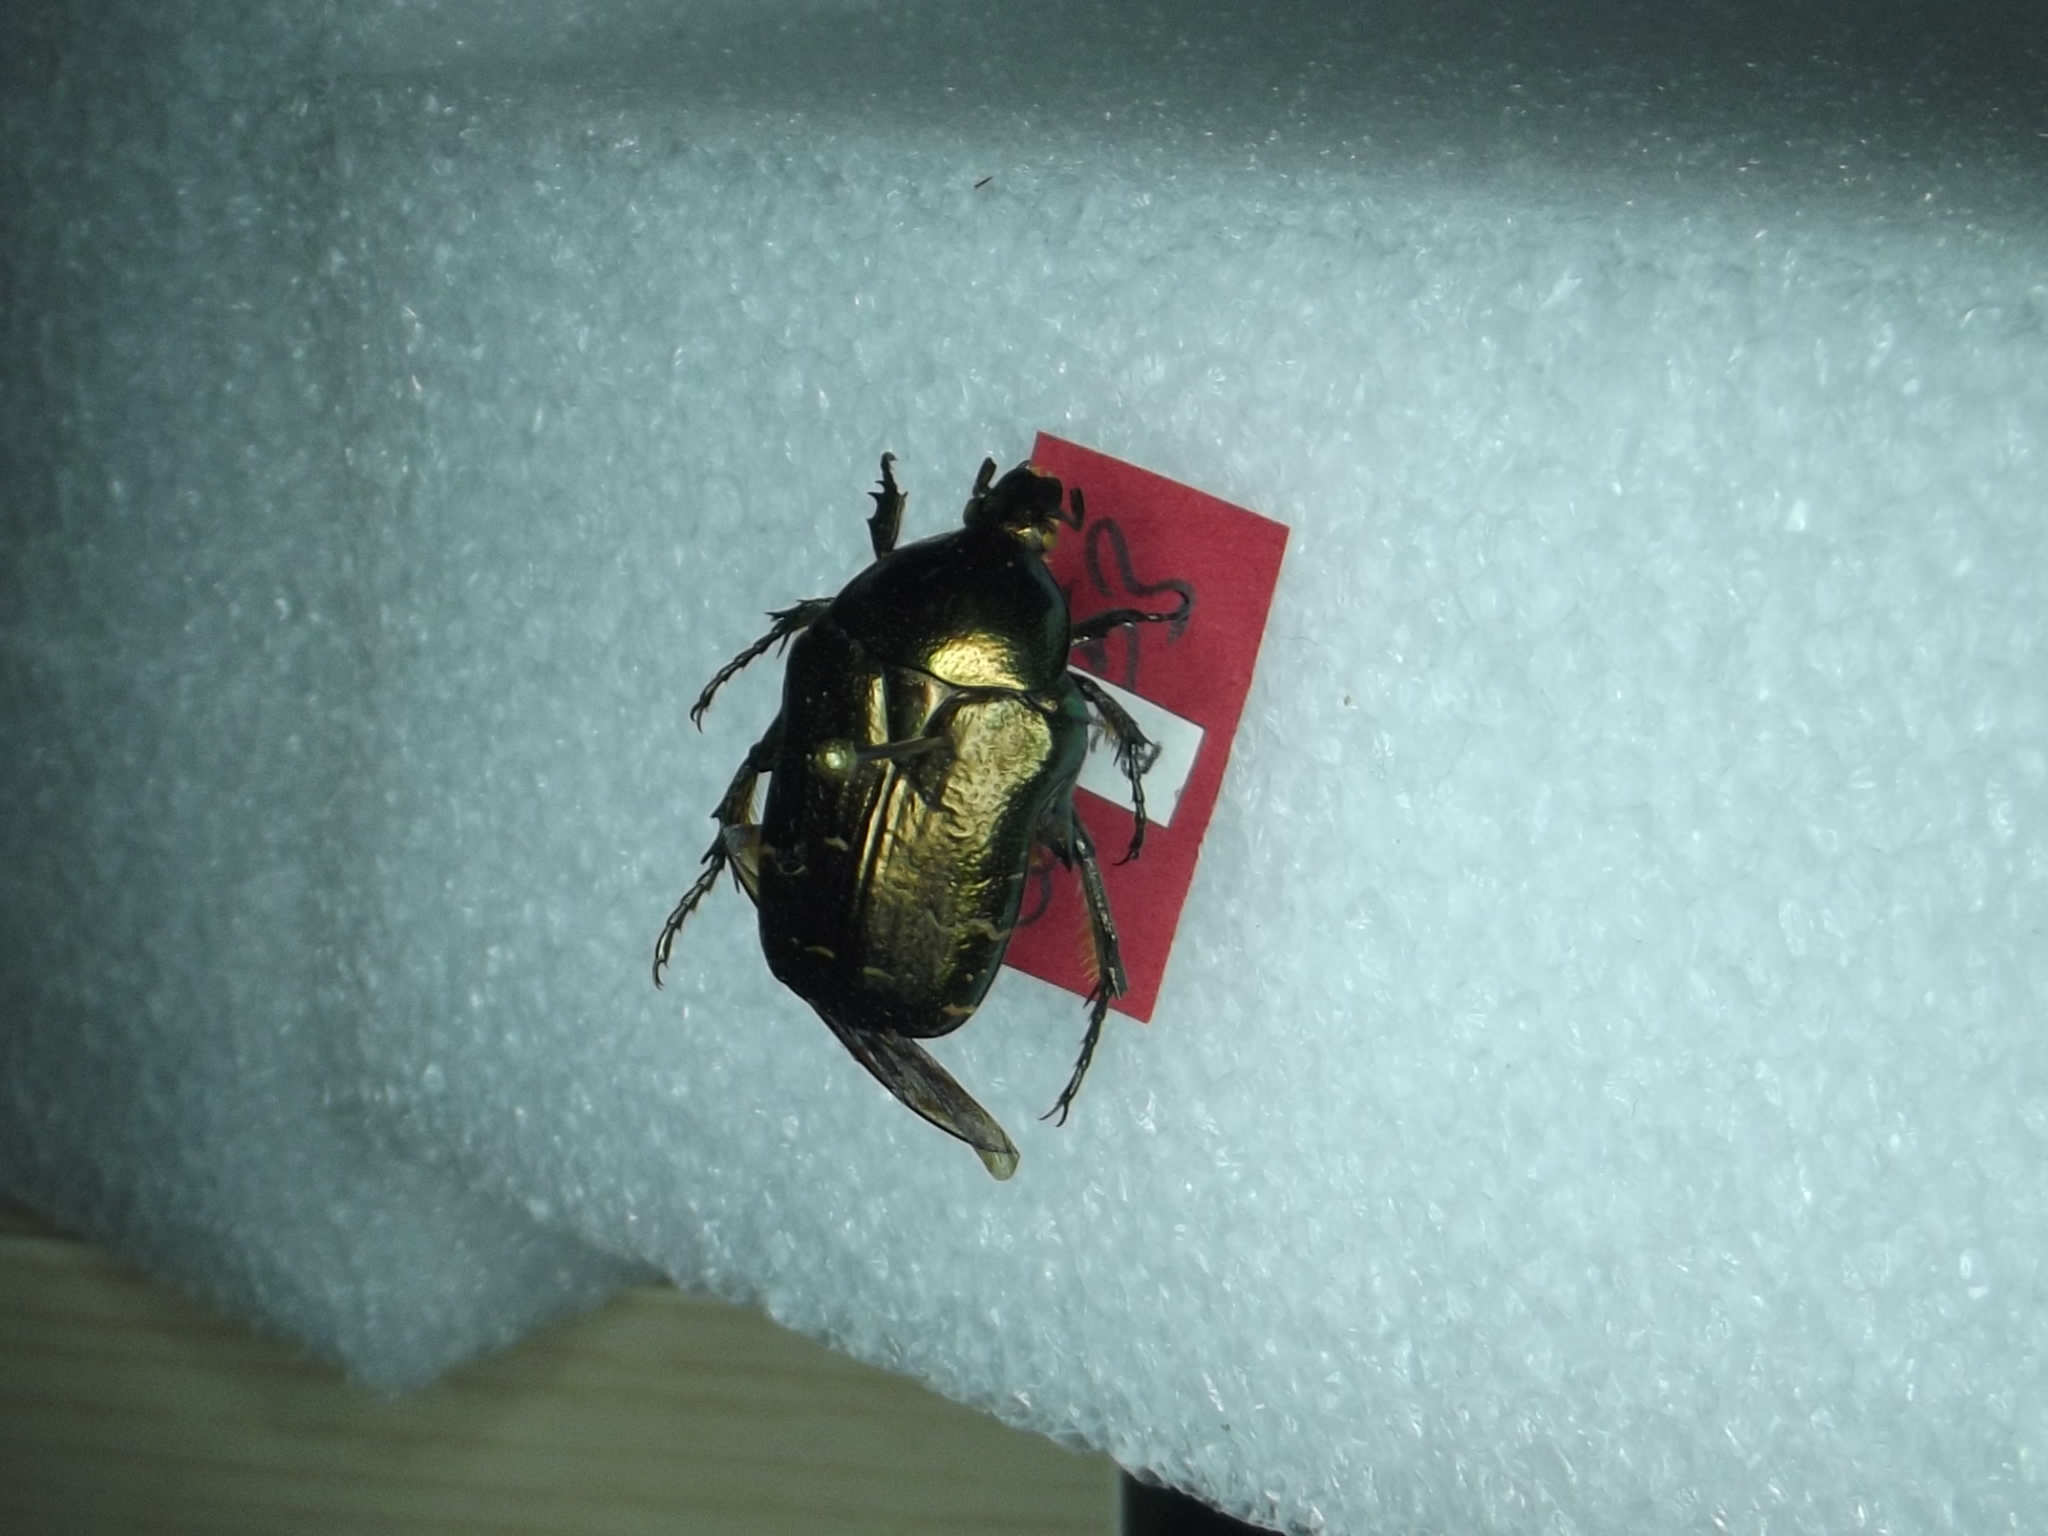Cetonia_kemali: (622, 444, 1188, 1189)
